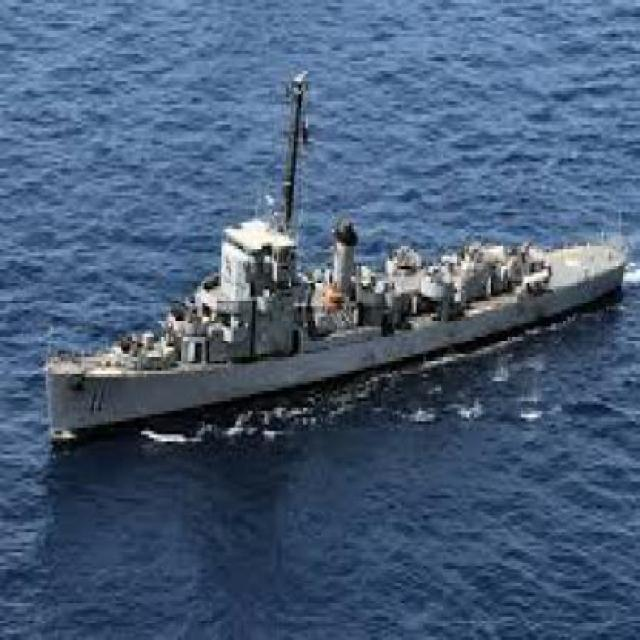no-oil: (18, 25, 640, 232), (10, 448, 640, 624)
